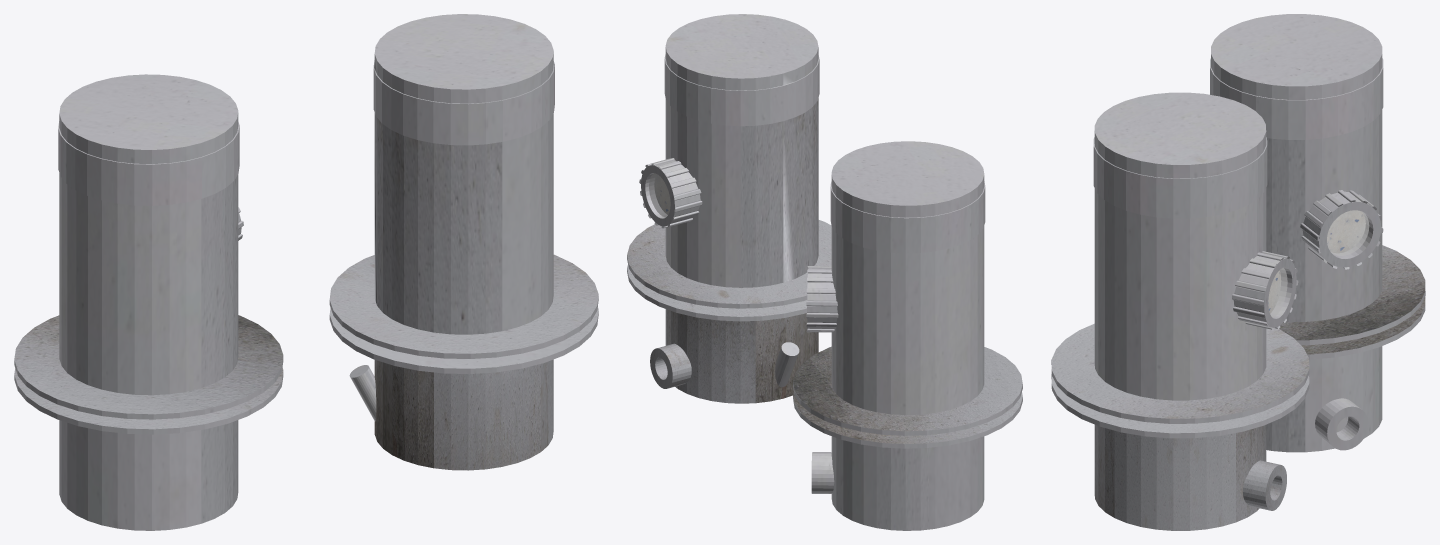
The model's file is silic_defect.fbx.
3 views of the same model, side by side, from view 1: azimuth 30°, elevation 25°; view 2: azimuth 150°, elevation 25°; view 3: azimuth 270°, elevation 25° (orthographic). The views are drawn at different scales.
Visible parts, largest first — view 1: Cylinder.112; view 2: Cylinder.112, силикогель4.001, силикогель4.006; view 3: Cylinder.112, силикогель4.002, силикогель4.005, силикогель4.003, силикогель4.001, силикогель4.006.
Boxes of the visible parts, left/top/right/bottom form: Cylinder.112: left=14, top=14, right=598, bottom=530; Cylinder.112: left=627, top=14, right=1022, bottom=530; силикогель4.001: left=649, top=173, right=670, bottom=216; силикогель4.006: left=649, top=173, right=670, bottom=216; Cylinder.112: left=1051, top=14, right=1425, bottom=530; силикогель4.002: left=1327, top=210, right=1368, bottom=255; силикогель4.005: left=1327, top=210, right=1368, bottom=255; силикогель4.003: left=1327, top=210, right=1365, bottom=252; силикогель4.001: left=1268, top=268, right=1287, bottom=317; силикогель4.006: left=1268, top=268, right=1287, bottom=316.
Bounding box in the file's own units: 48.27 × 40.1 × 33.41.
9 materials, 5 textured.
